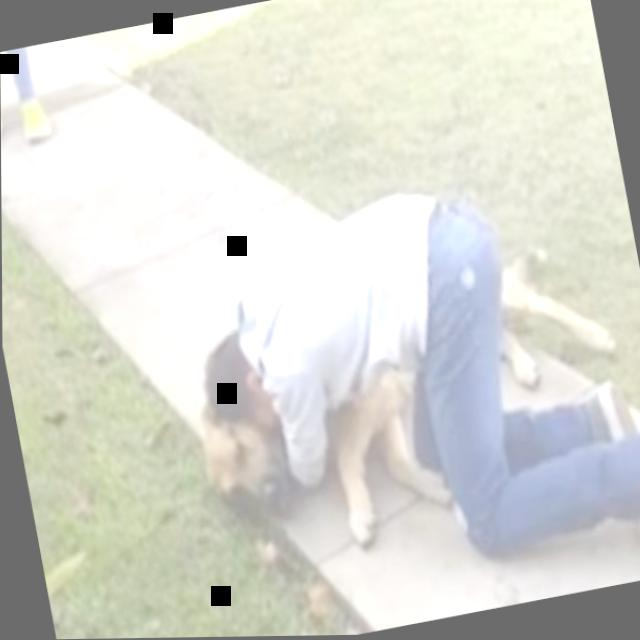Fall-Detected: (157, 144, 640, 638)
